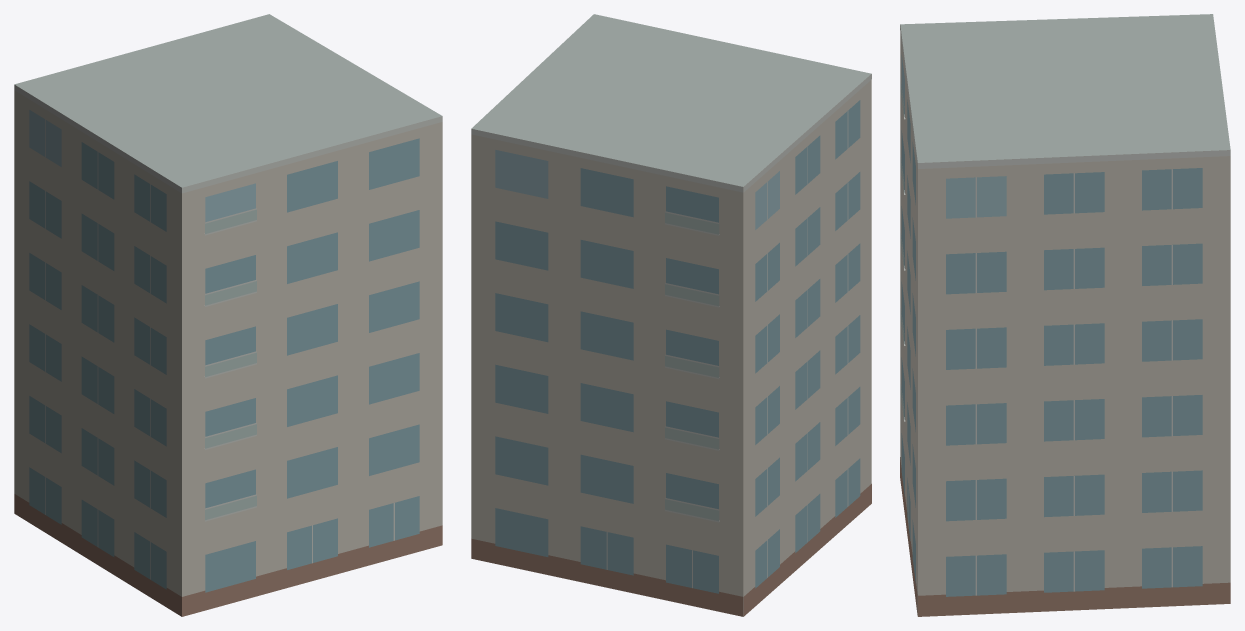
File: survey-upis-32738050.glb
The picture shows the model from 3 angles, left to right: view 1: azimuth 30°, elevation 25°; view 2: azimuth 150°, elevation 25°; view 3: azimuth 270°, elevation 25°; orthographic projection. The views are drawn at different scales.
Visible parts, largest first — view 1: survey-upis-32738050.tmp; view 2: survey-upis-32738050.tmp; view 3: survey-upis-32738050.tmp.
Part boxes in pixels (x1=…): survey-upis-32738050.tmp: x1=14, y1=14, x2=442, y2=616; survey-upis-32738050.tmp: x1=471, y1=14, x2=871, y2=616; survey-upis-32738050.tmp: x1=900, y1=14, x2=1230, y2=616.
Size of the model in its own units: 12.9 by 18.3 by 12.09.
